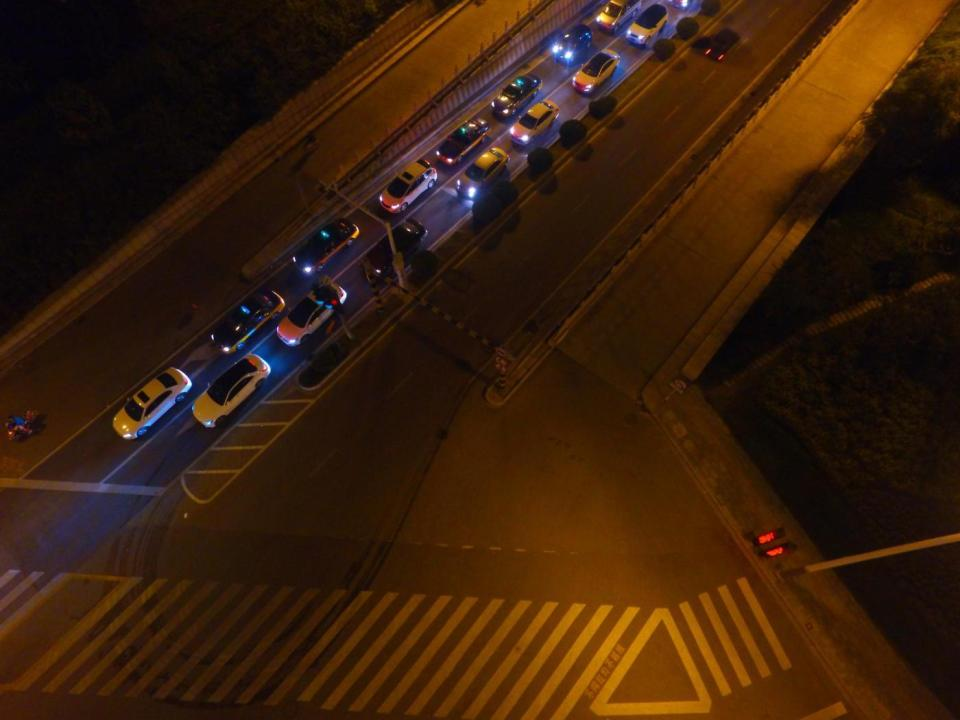car: (108, 365, 194, 443), (188, 357, 268, 432), (209, 290, 284, 356), (279, 283, 344, 346), (292, 223, 358, 276), (378, 158, 437, 215), (370, 218, 422, 280), (457, 147, 508, 201), (435, 118, 490, 165), (569, 47, 619, 94), (490, 73, 543, 116), (509, 101, 560, 145), (626, 2, 668, 46), (551, 25, 591, 68), (598, 0, 641, 32)
